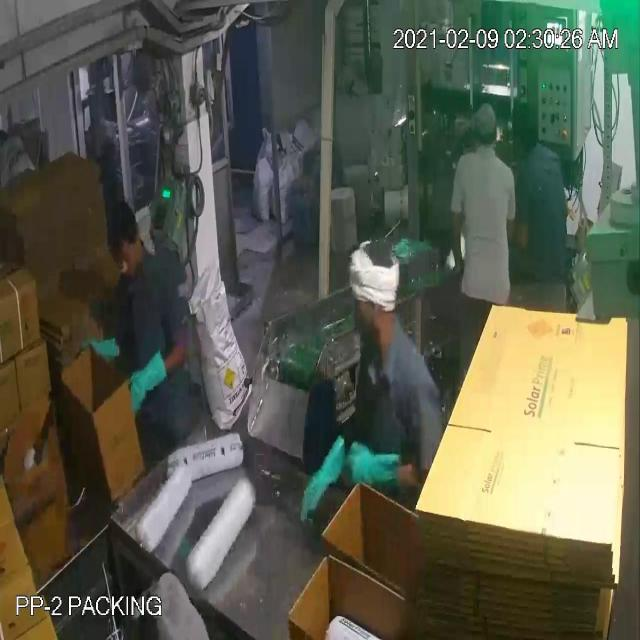Gloves: (26, 58, 458, 473)
